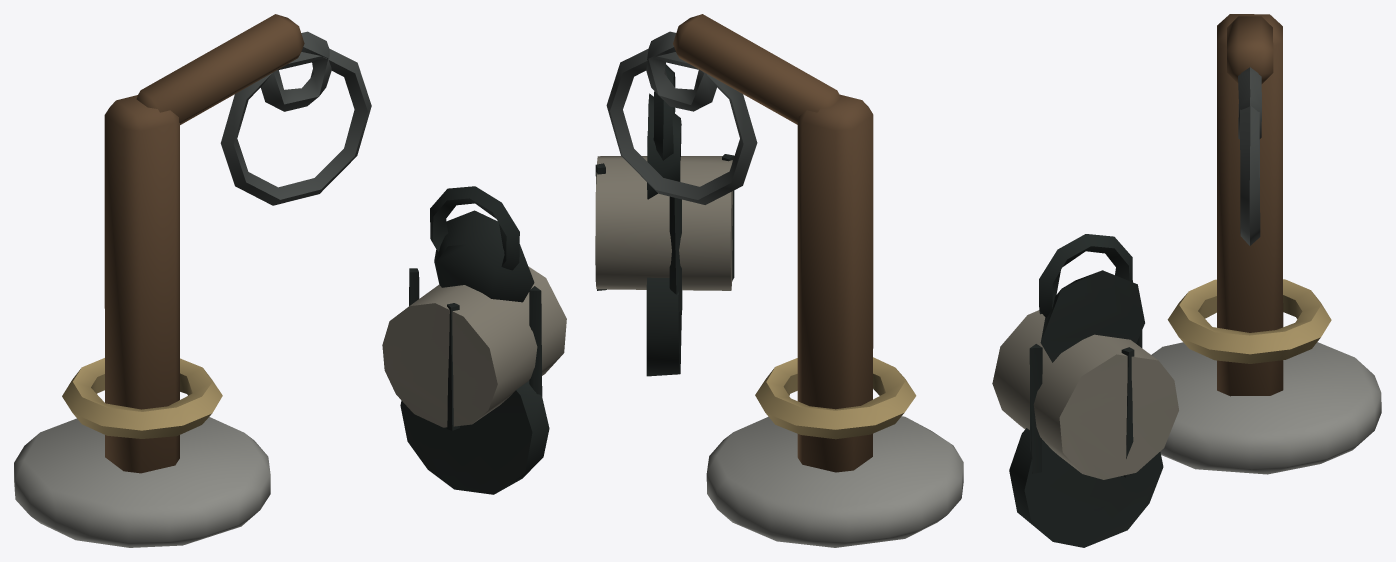
Rendered from storm_lantern_b_lod1.glb.
3 views of the same model, side by side, from view 1: azimuth 30°, elevation 25°; view 2: azimuth 150°, elevation 25°; view 3: azimuth 270°, elevation 25° (orthographic).
Parts seen in each view (by area): view 1: Surface.001; view 2: Surface.001; view 3: Surface.001.
Part boxes in pixels (<box>): Surface.001: <box>14,14,566,547</box>; Surface.001: <box>595,14,963,547</box>; Surface.001: <box>992,14,1381,547</box>.
Size of the model in its own units: 1.58 by 1.53 by 1.19.
